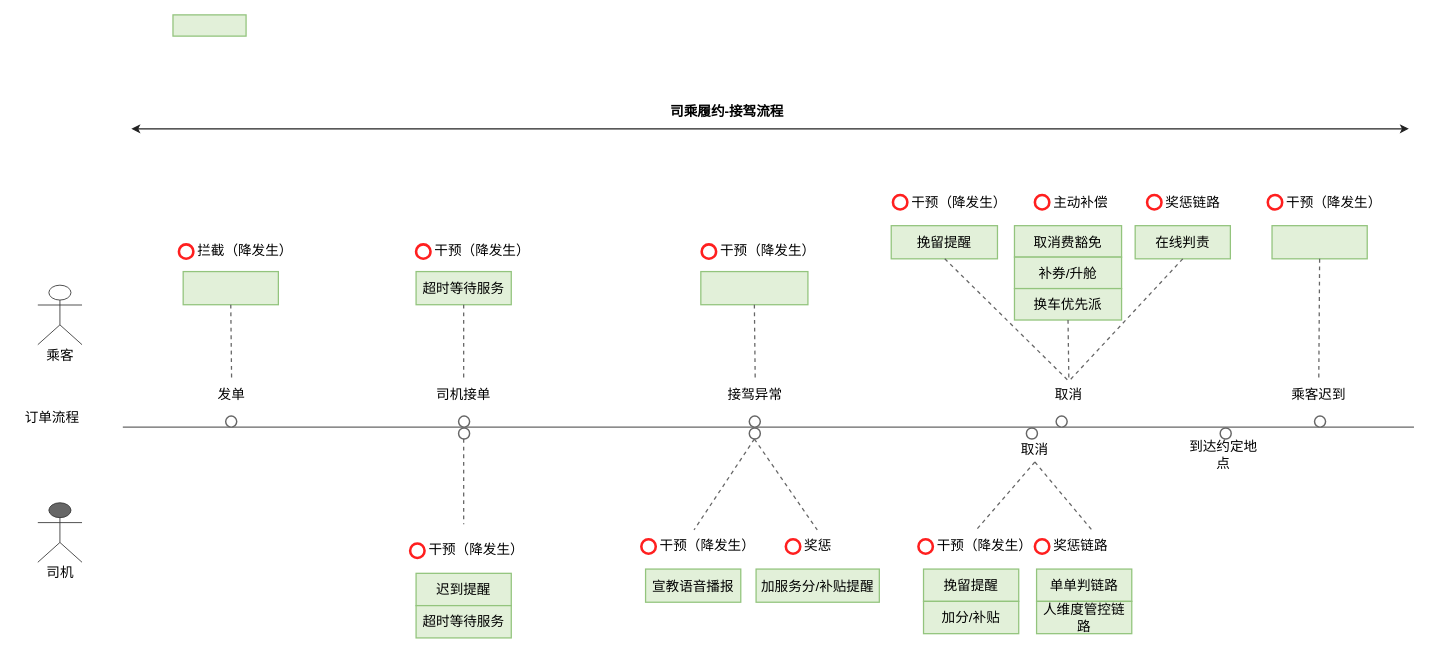
The diagram is 1431 pixels wide and 654 high, and some of its shapes have lost their labels. The centre of each missing label's shape, as x and y in pixels:
乘客迟到提醒: the point at 1319,242
取消场景: the point at 209,25
换车优先派弹框: the point at 754,288
高频取消拦截: the point at 230,288
